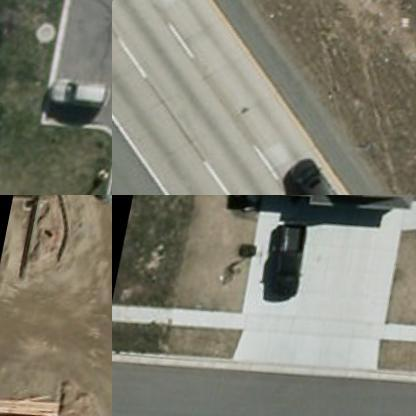car: (48, 78, 110, 124), (284, 153, 347, 194)
pickup: (266, 219, 312, 306)
